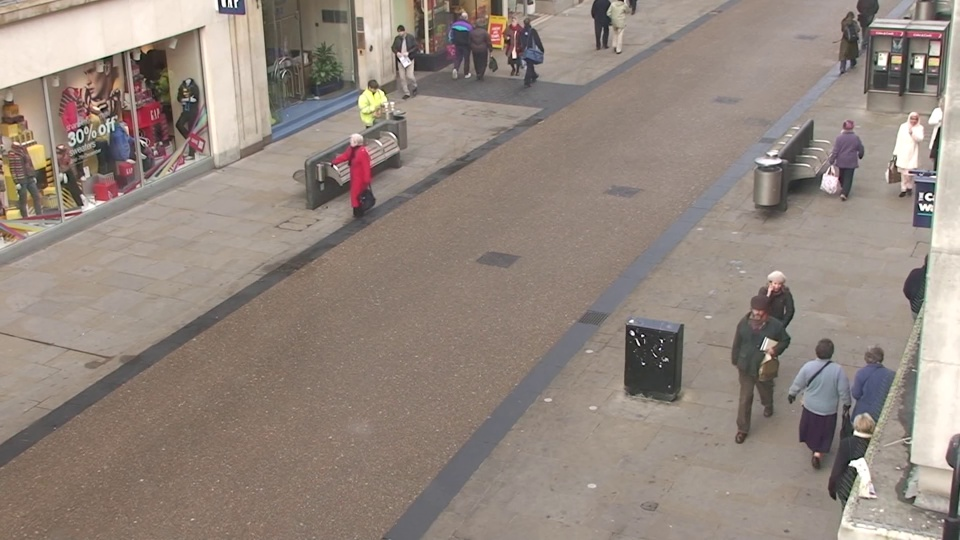pedestrian: (839, 335, 899, 491), (828, 401, 893, 540), (791, 331, 848, 485), (896, 245, 954, 378), (731, 292, 782, 434), (748, 265, 797, 401), (888, 107, 932, 205), (826, 114, 865, 211), (340, 129, 376, 227), (359, 77, 390, 161), (831, 8, 862, 79), (390, 23, 415, 92), (467, 17, 492, 85), (504, 14, 528, 81), (453, 8, 477, 74), (515, 14, 538, 82)
